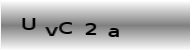2: (84, 22, 97, 36)
C: (58, 21, 73, 35)
U: (21, 16, 36, 31)
a: (107, 27, 120, 38)
v: (44, 26, 58, 37)
